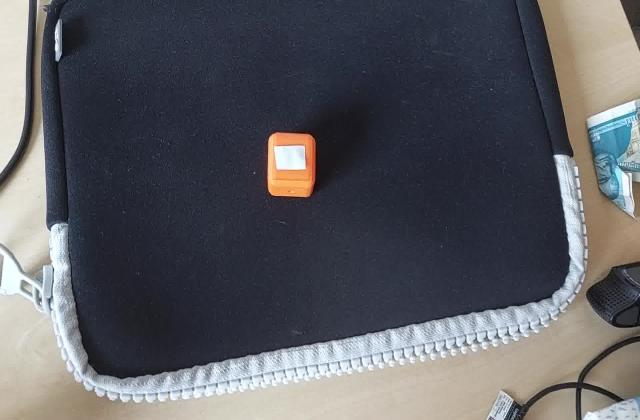sticker: (262, 132, 318, 201)
white: (271, 143, 309, 173)
